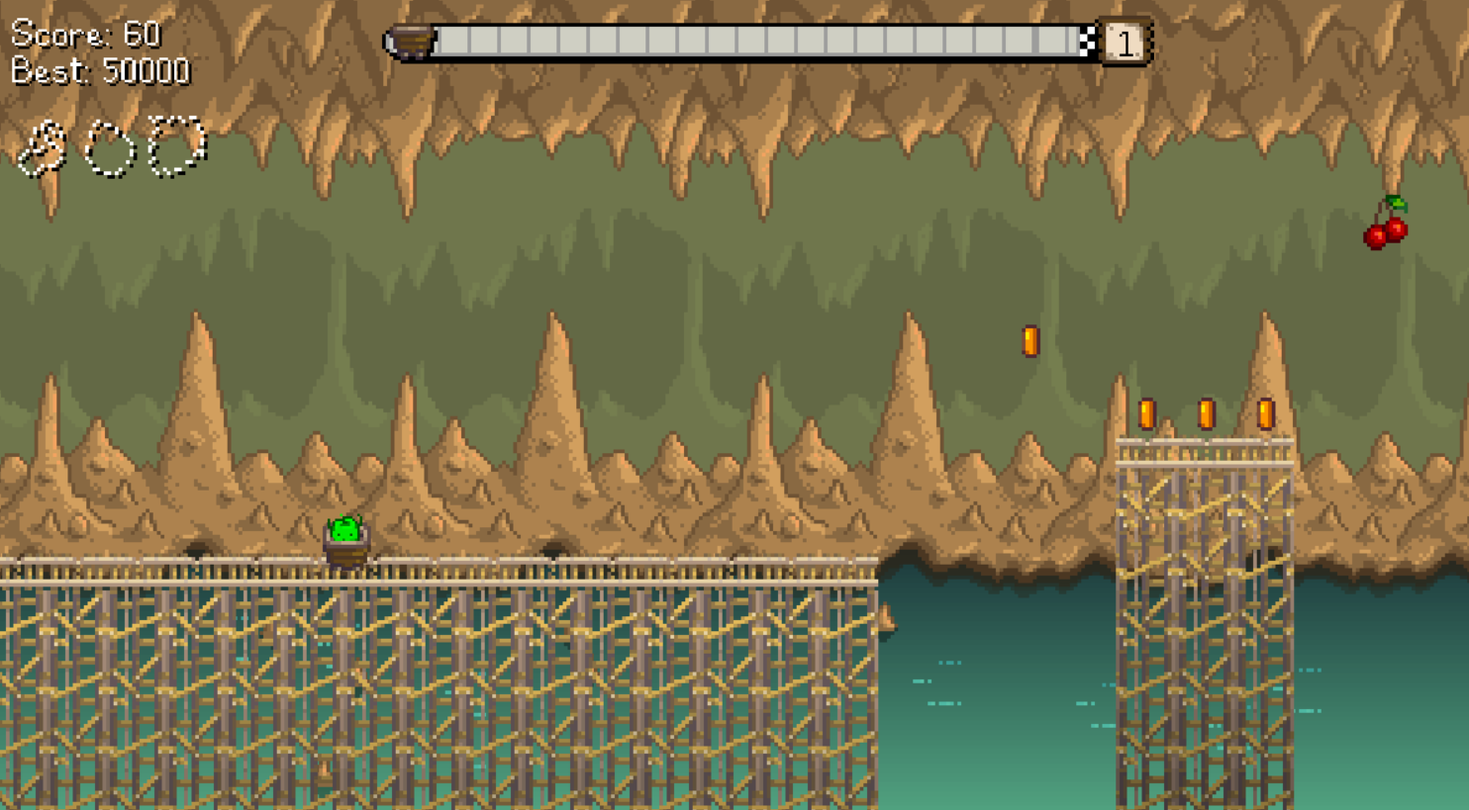track: (1, 557, 878, 810), (1116, 438, 1294, 810)
